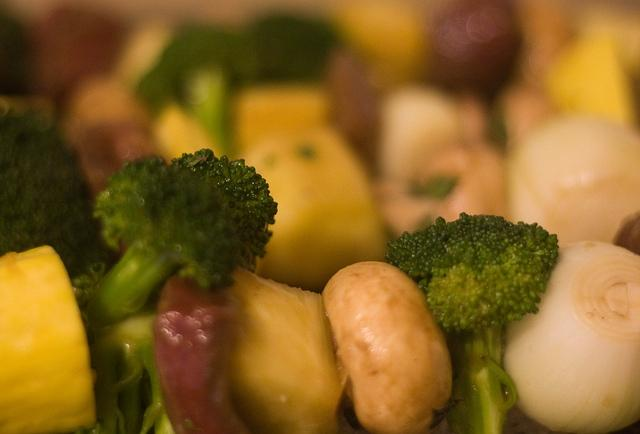broccoli: (385, 212, 560, 434), (86, 148, 278, 331), (135, 14, 339, 154), (0, 107, 118, 330)
mushroom: (321, 262, 452, 430), (61, 74, 170, 199), (376, 150, 507, 241), (486, 80, 562, 148)
onion: (502, 236, 640, 434), (506, 112, 640, 246)
